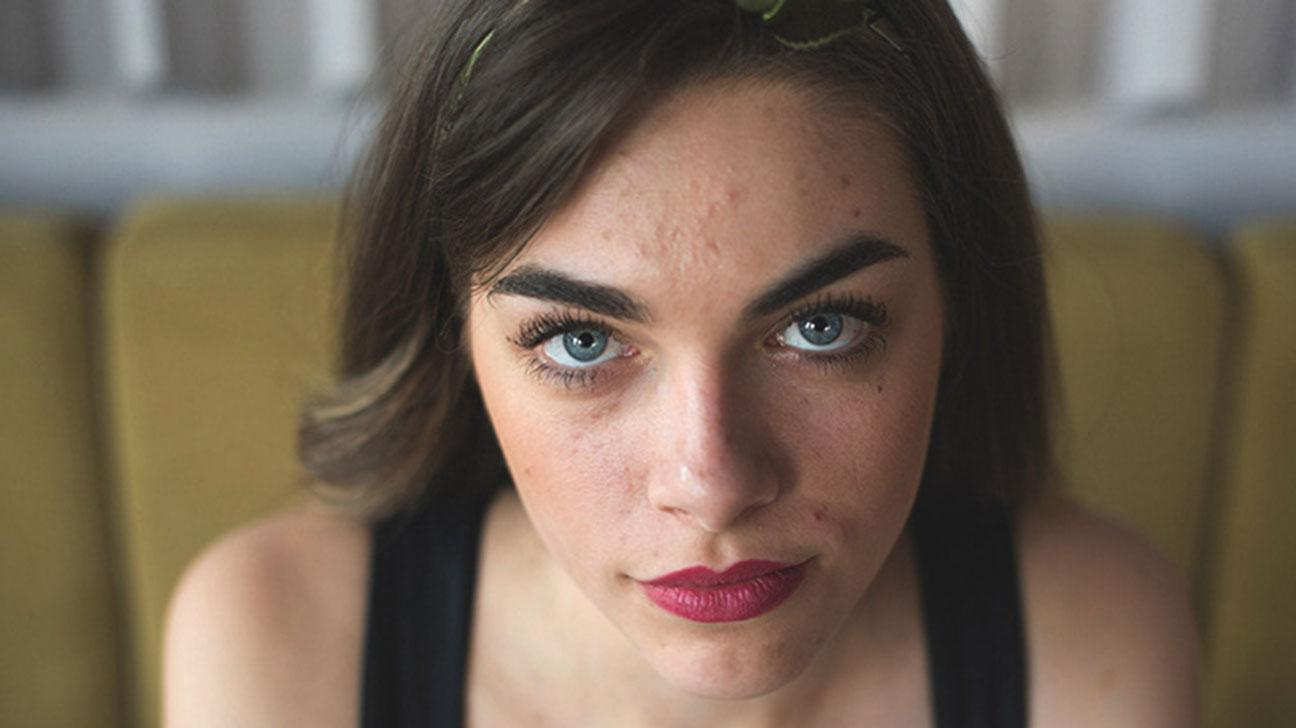Acne: (597, 167, 764, 269)
